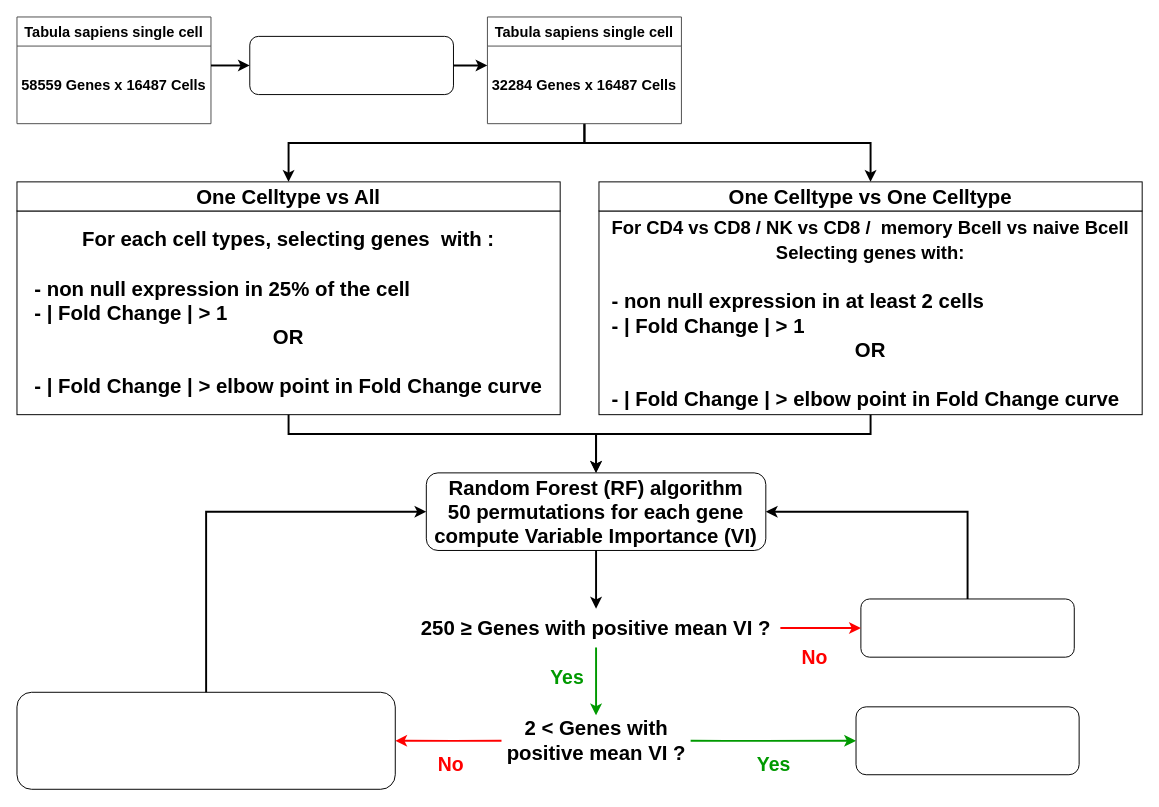
Some shapes in this 1159 by 807 pixel diagram are drawn without their labels. The shapes that lost their labels are listed below. From the top down, each one's centre as x and y in pixels, then its label:
point 351,65: Remove unexpressed genes
point 967,627: Remove genes with VI ≤ 0
point 205,740: RF VI (no permutation) Selecting genes : - VI > lowest elbow point in VI curve
point 967,740: Signature geneset for the said celltype
